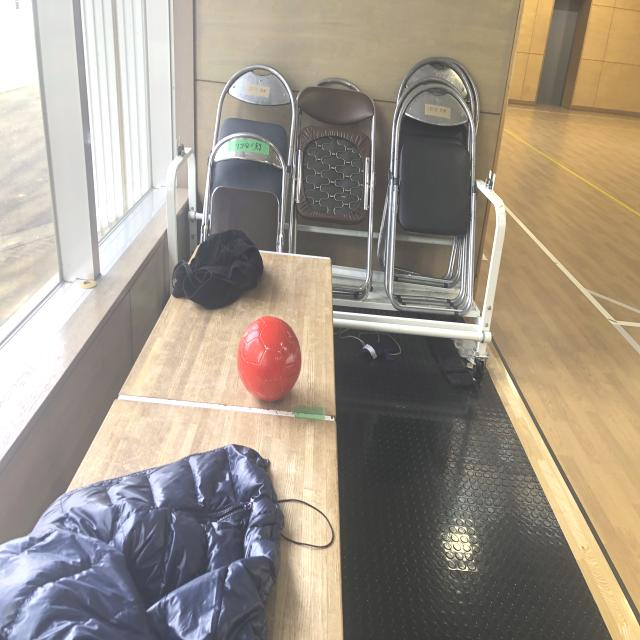red_ball: (236, 314, 302, 402)
